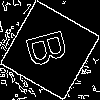B: (25, 25, 78, 69)
